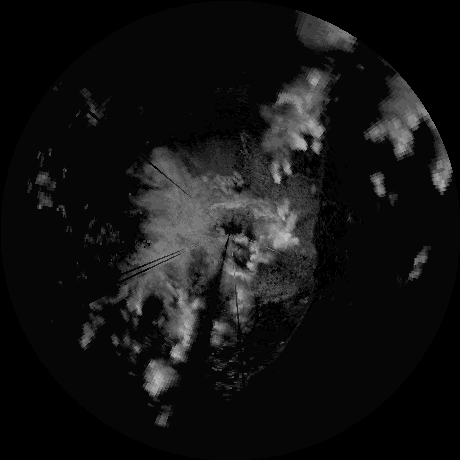frontgust: (253, 266, 315, 373)
